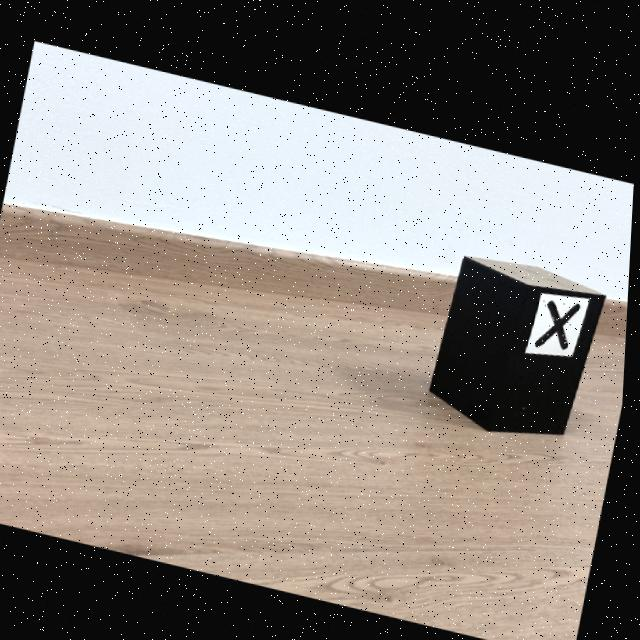X: (538, 290, 583, 339)
